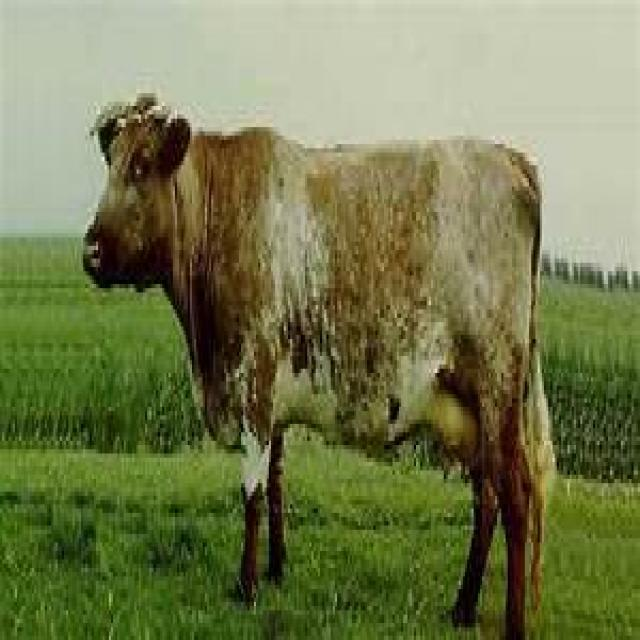animal: (81, 89, 557, 636)
